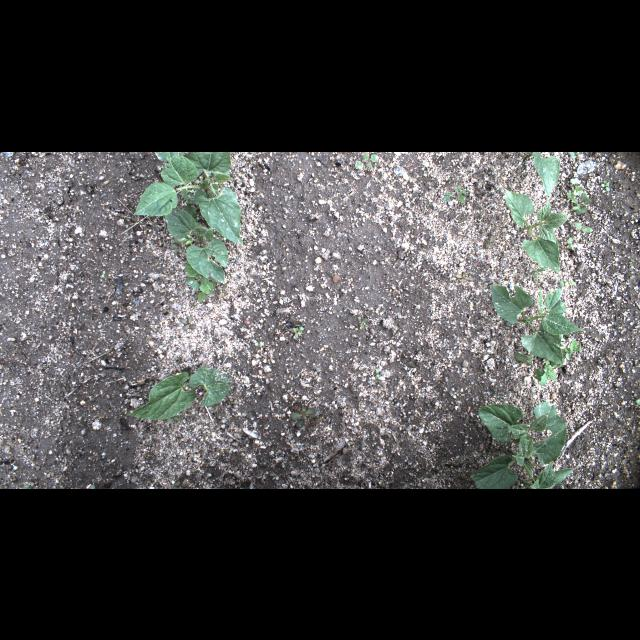crop: (133, 152, 243, 245), (462, 400, 578, 488), (490, 279, 586, 366), (125, 364, 231, 422), (504, 188, 574, 272), (162, 203, 228, 281), (533, 152, 559, 194), (568, 151, 580, 159)
weed: (184, 262, 218, 302), (290, 406, 320, 428), (568, 185, 592, 212), (534, 360, 556, 386), (442, 182, 466, 204), (354, 152, 378, 168), (563, 340, 581, 360), (169, 235, 187, 252), (180, 316, 198, 330), (573, 221, 593, 233), (565, 234, 577, 250), (292, 326, 306, 338), (534, 268, 546, 282), (456, 272, 472, 282), (485, 234, 495, 250), (220, 282, 228, 298), (357, 316, 367, 328), (600, 180, 610, 190), (23, 482, 37, 488), (564, 279, 576, 285), (634, 397, 640, 407), (374, 369, 380, 379), (253, 342, 263, 346), (100, 270, 106, 276)
